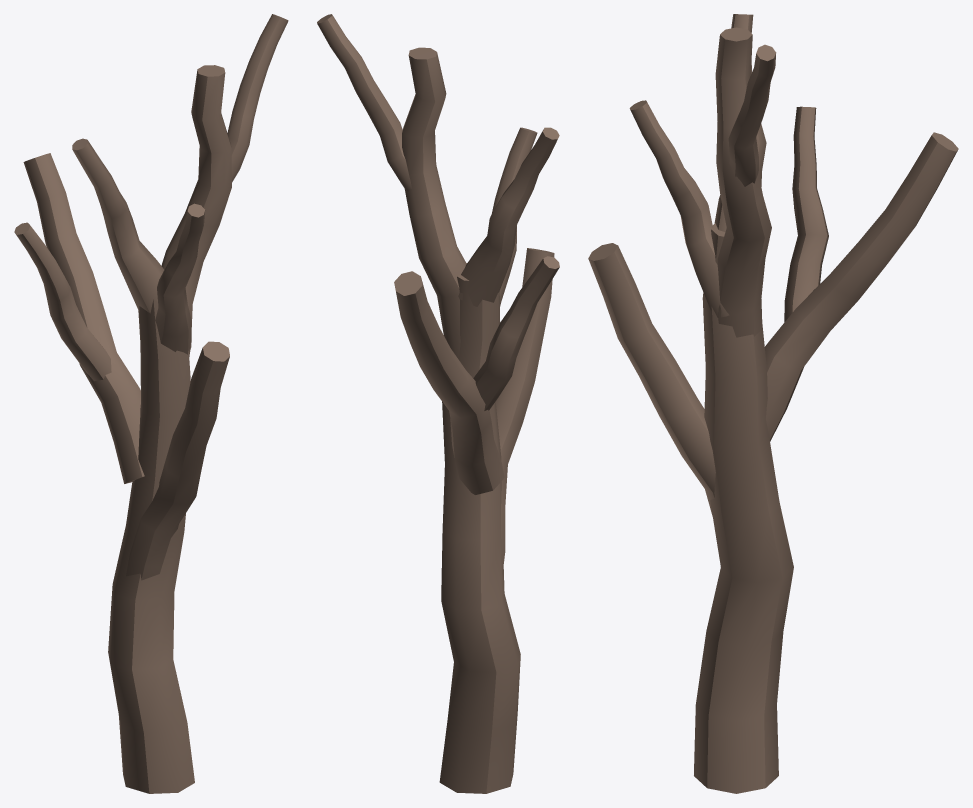
The model's file is a_z1_deadTree.fbx.
3 renders of one model, left to right at view 1: azimuth 30°, elevation 25°; view 2: azimuth 150°, elevation 25°; view 3: azimuth 270°, elevation 25°, orthographic. The views are drawn at different scales.
Parts seen in each view (by area): view 1: a_z1_deadTree; view 2: a_z1_deadTree; view 3: a_z1_deadTree.
Boxes of the visible parts, box(x1,y1,x2,y2) form: a_z1_deadTree: box(14, 14, 288, 793); a_z1_deadTree: box(317, 14, 559, 793); a_z1_deadTree: box(588, 14, 958, 793).
Size of the model in its own units: 226 by 617 by 259.
